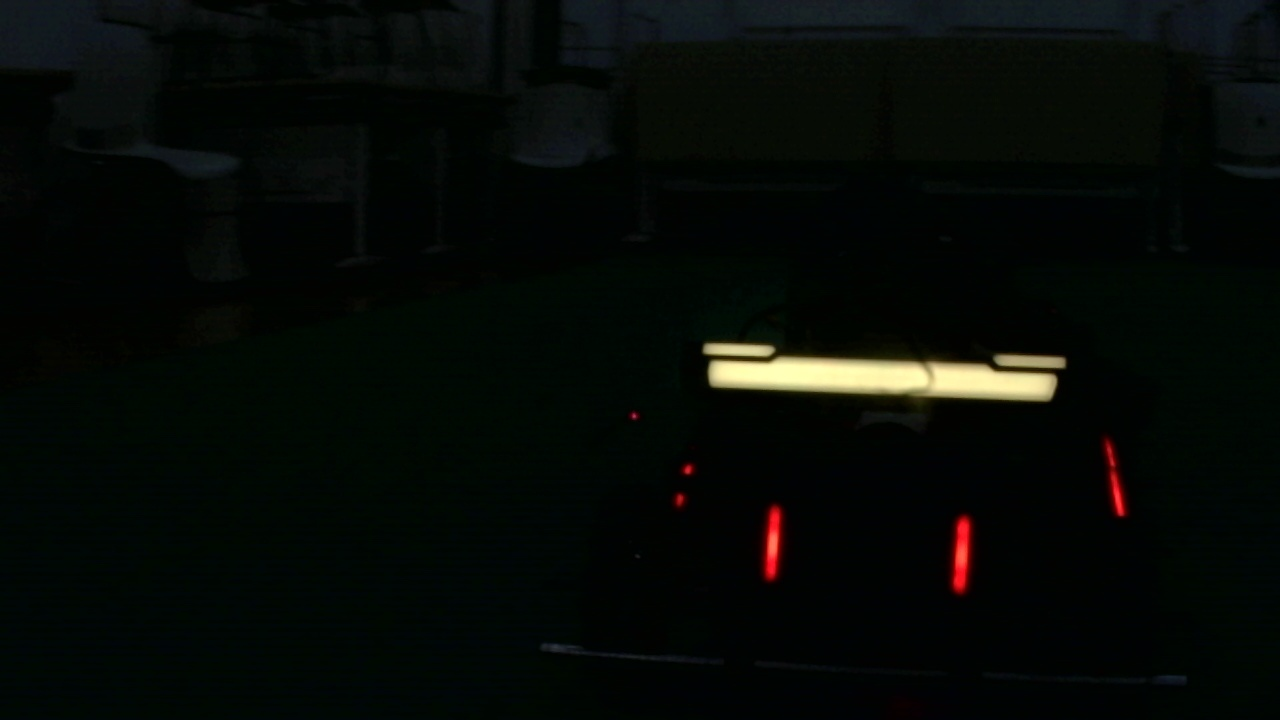lamp: (1104, 435, 1128, 519), (948, 504, 971, 591), (764, 504, 782, 592)
notpair1: (951, 435, 1131, 596)
pair1: (766, 505, 970, 590)
